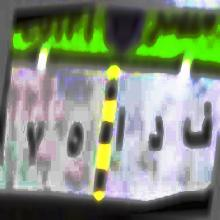5: (64, 117, 84, 161)
7: (25, 108, 43, 169)
alif: (114, 101, 126, 156)
daal: (147, 112, 165, 161)
faa: (182, 96, 214, 154)
